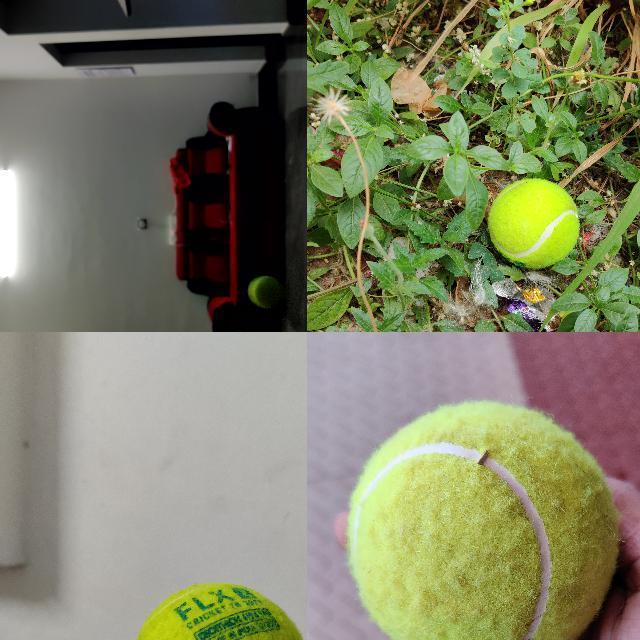tennis-ball: (346, 399, 621, 639), (127, 582, 306, 639), (488, 178, 578, 268), (248, 276, 282, 308)
